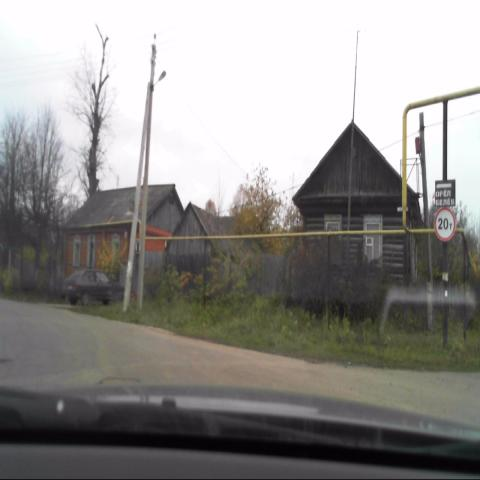3_11: (434, 207, 457, 242)
